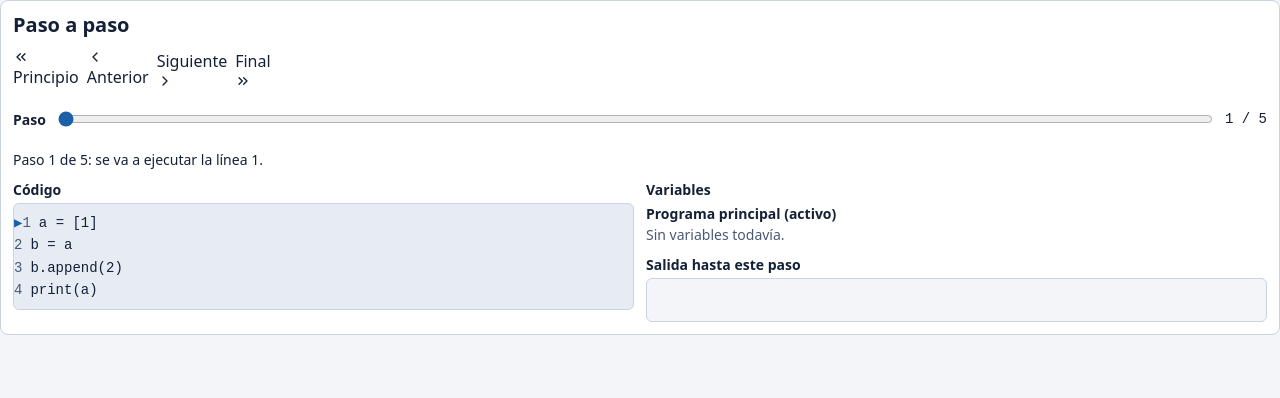
Test: TraceView › avanza y retrocede con los botones y el deslizador, y anuncia el paso
The image size is (1280, 398).
Expected: the element named "Controles del paso a paso" is shown, [13, 49, 271, 89]
Expected: the button "Principio" is disabled, [13, 49, 79, 89]
Click the button with aria-label "Siguiente paso": (192, 69) [157, 49, 227, 89]
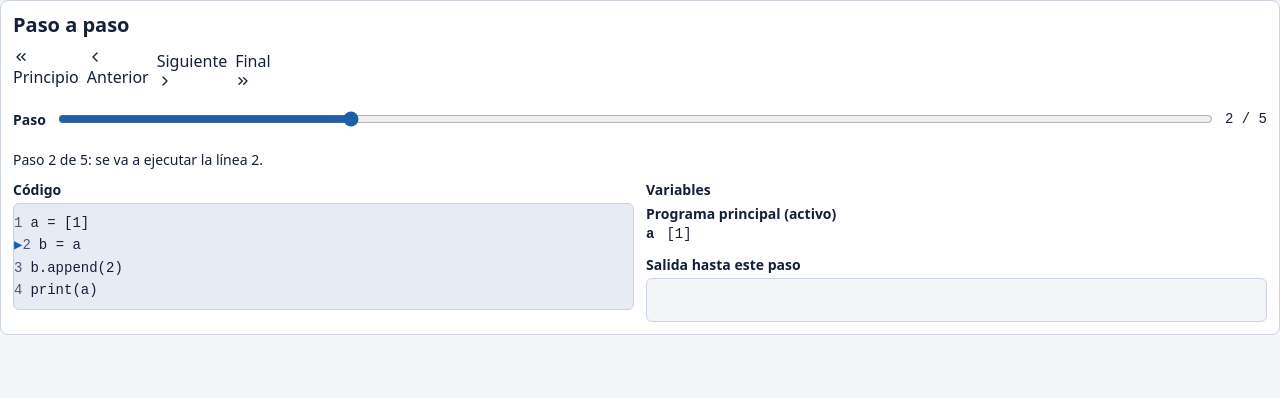
Click the button with aria-label "Siguiente paso": (192, 69) [157, 49, 227, 89]
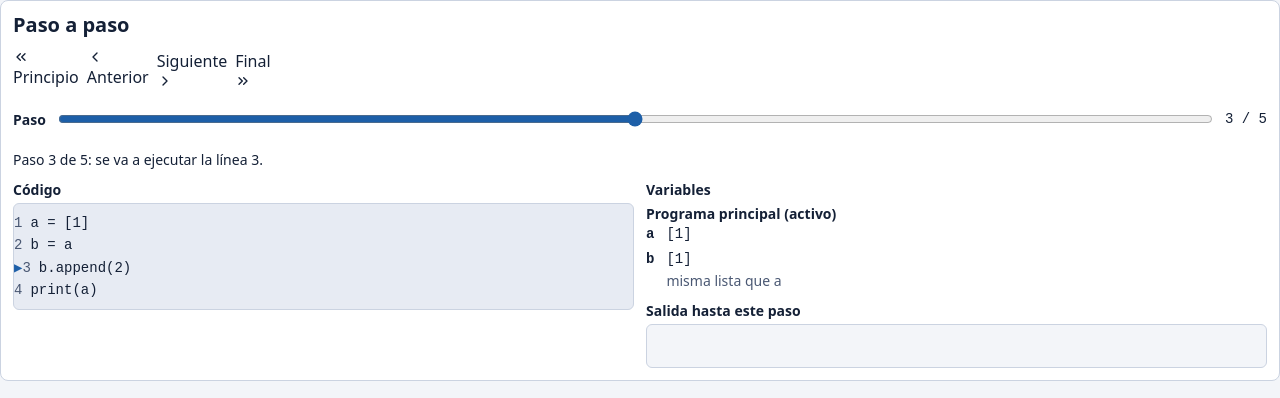
Expected: the list item "▶3b.append(2)" is shown, [14, 259, 147, 276]
Result: the text "misma lista que a" is shown at [666, 271, 782, 290]
Result: the slider labelled "Paso" holds "3" at [58, 97, 1213, 141]
Click the button "Final": (253, 69) [235, 49, 271, 89]
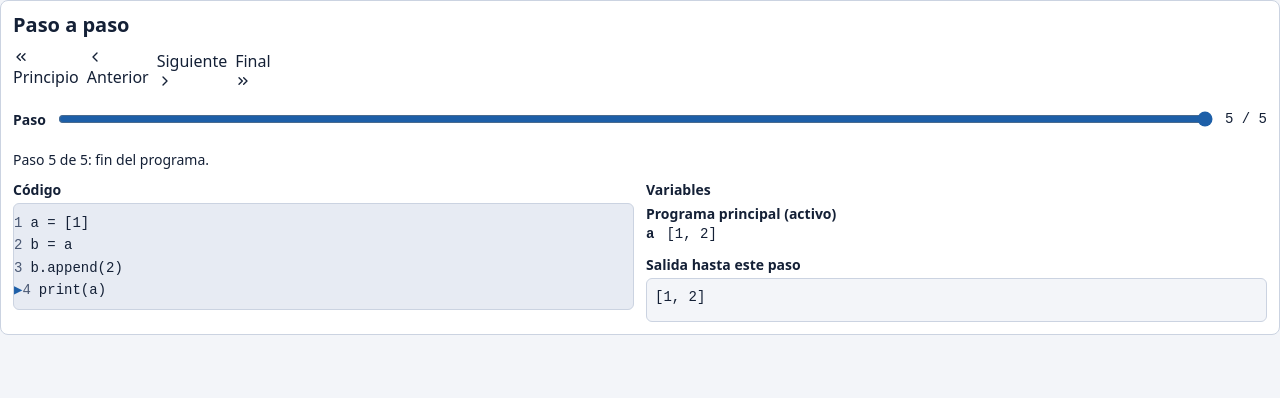
Expected: the button with aria-label "Siguiente paso" is disabled, [157, 49, 227, 89]
Result: the text with test id "trace-step" reads "Paso 5 de 5: fin del programa." at [13, 150, 209, 169]
Set the slider labelled "Paso" to "2": (351, 119) [58, 97, 1213, 141]
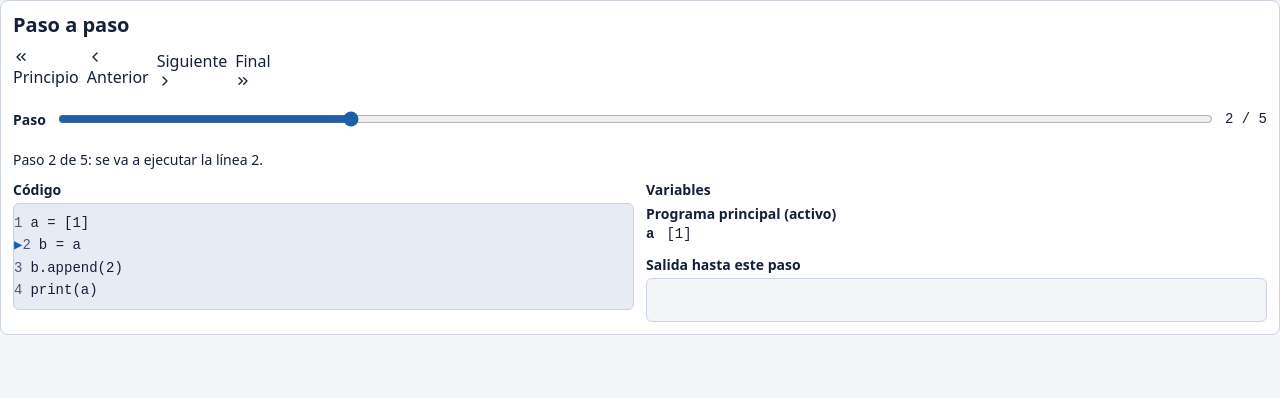
Expected: the list item "▶2b = a" is shown, [14, 236, 147, 253]
Click the button "Principio": (46, 69) [13, 49, 79, 89]
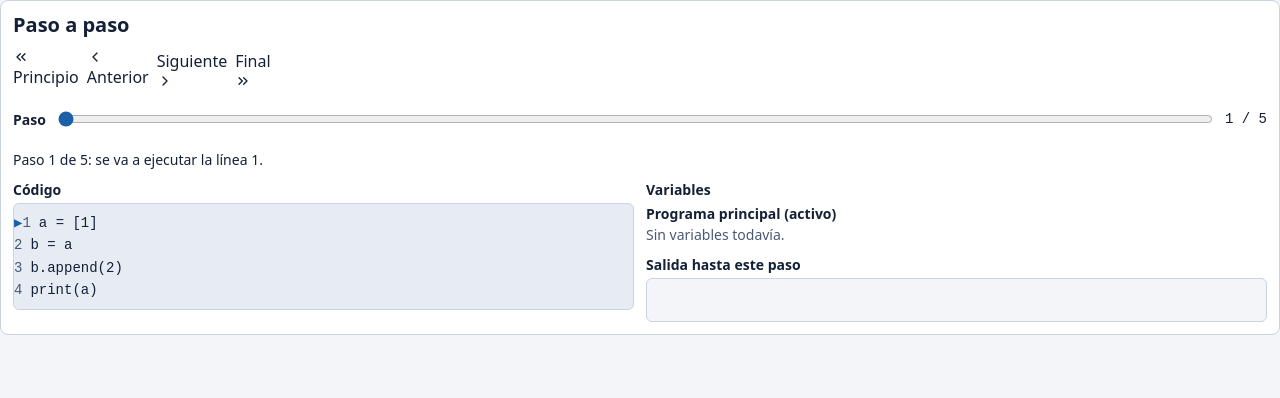
Result: the slider labelled "Paso" holds "1" at [58, 97, 1213, 141]
Result: the element "Programa principal" shows "Sin variables todavía." at [646, 225, 785, 244]
